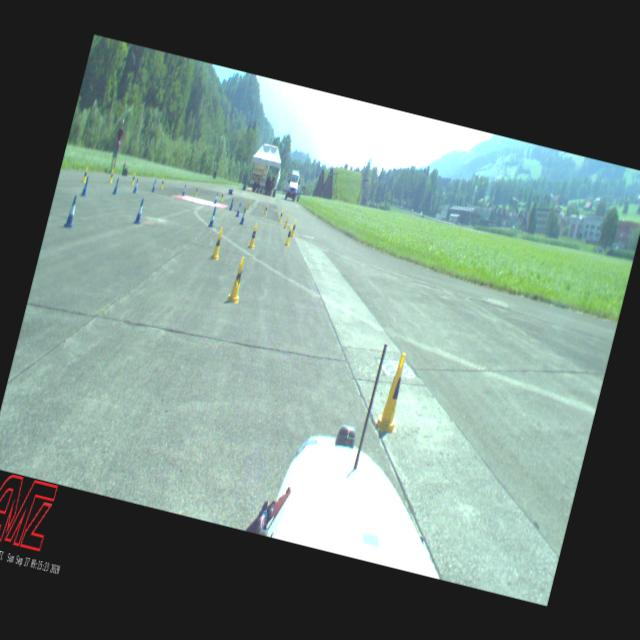blue_cone: (63, 194, 80, 229), (134, 198, 146, 224), (208, 205, 218, 228), (80, 176, 90, 197), (239, 207, 247, 225), (112, 177, 120, 194), (235, 202, 242, 218), (132, 178, 138, 193), (151, 179, 157, 192), (228, 198, 234, 210), (182, 183, 186, 196), (214, 192, 218, 204)
yellow_cone: (372, 350, 416, 434), (226, 255, 249, 304), (210, 226, 226, 260), (247, 223, 259, 249), (284, 224, 294, 246), (290, 220, 298, 238), (82, 166, 89, 182), (283, 214, 290, 228), (108, 168, 114, 182), (278, 209, 284, 222), (246, 198, 252, 210), (130, 172, 136, 184), (160, 177, 165, 189), (263, 203, 268, 214), (194, 186, 199, 196), (220, 190, 224, 202)
